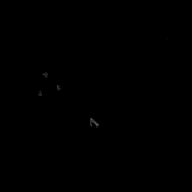v: (34, 69, 59, 95)
